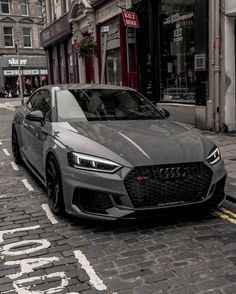car: (8, 79, 227, 224)
